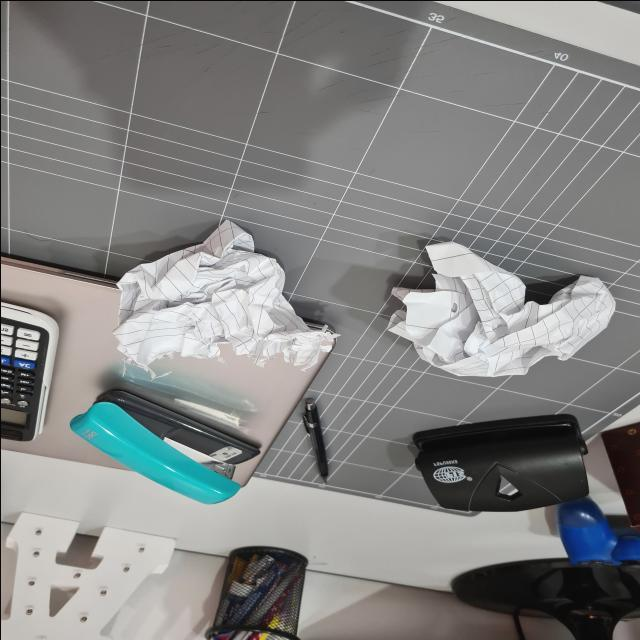Paper: (366, 220, 618, 404), (79, 216, 350, 386)
